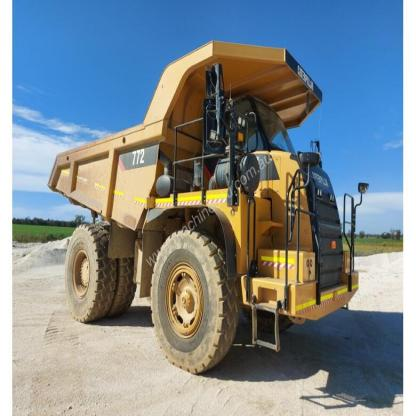dump_truck: (53, 34, 361, 369)
